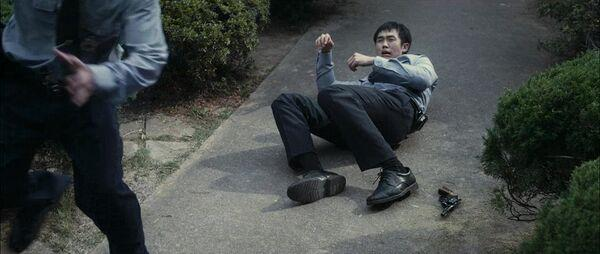Gun: (438, 185, 461, 220)
